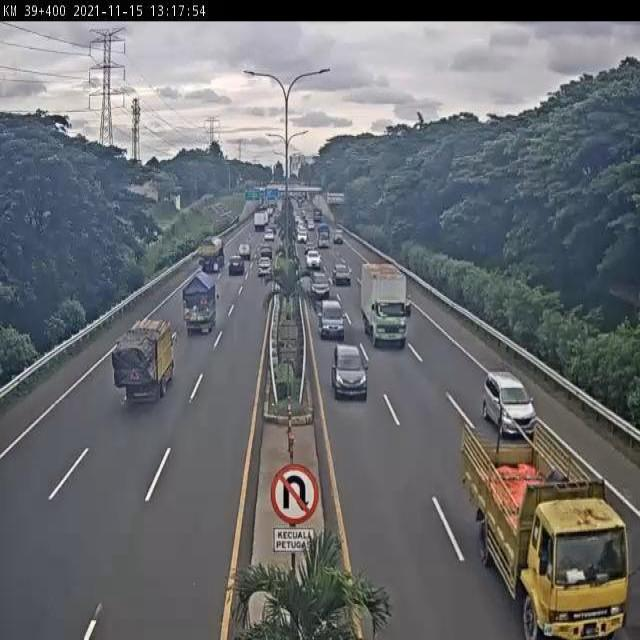ARABA: (481, 371, 541, 440), (330, 339, 371, 400), (317, 295, 346, 341), (309, 268, 331, 300), (333, 260, 352, 287), (255, 256, 273, 280), (227, 255, 244, 277)
KAMYONET: (462, 424, 629, 640), (110, 320, 175, 407), (360, 260, 411, 352), (181, 276, 218, 336)
TIR: (192, 237, 224, 279)
